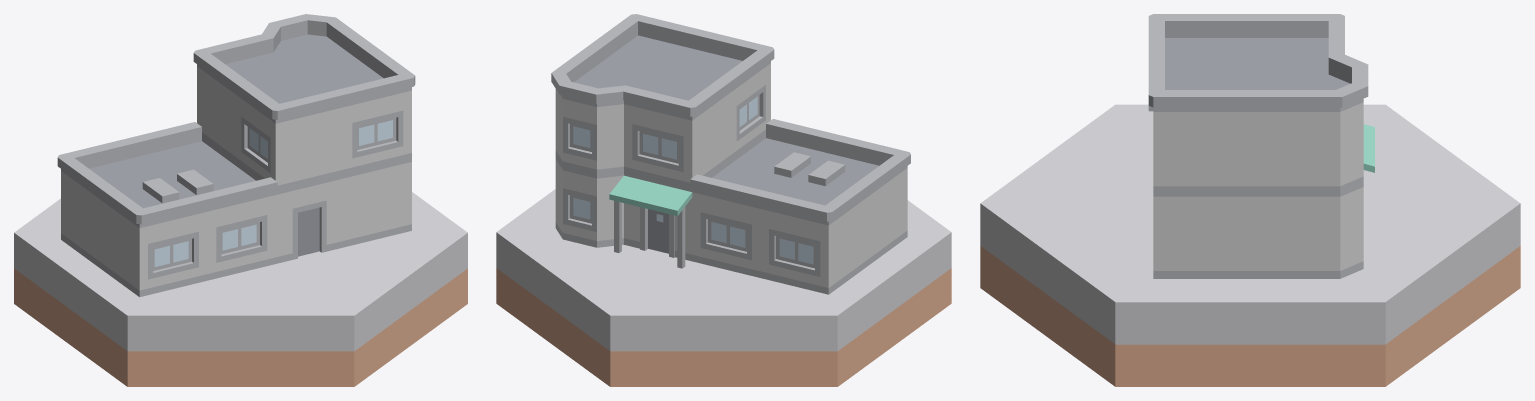
Rendered from building_1_high.fbx.
3 views of the same model, side by side, from view 1: azimuth 30°, elevation 25°; view 2: azimuth 150°, elevation 25°; view 3: azimuth 270°, elevation 25° (orthographic). The views are drawn at different scales.
Parts seen in each view (by area): view 1: small_buildingE, pavement_high.014; view 2: small_buildingE, pavement_high.014; view 3: pavement_high.014, small_buildingE.
Part boxes in pixels (<box>): small_buildingE: <box>57,14,415,297</box>; pavement_high.014: <box>14,192,467,386</box>; small_buildingE: <box>551,14,910,294</box>; pavement_high.014: <box>496,189,951,386</box>; pavement_high.014: <box>980,104,1520,386</box>; small_buildingE: <box>1148,14,1374,278</box>.
Bounding box in the file's own units: 100 × 63.37 × 115.
